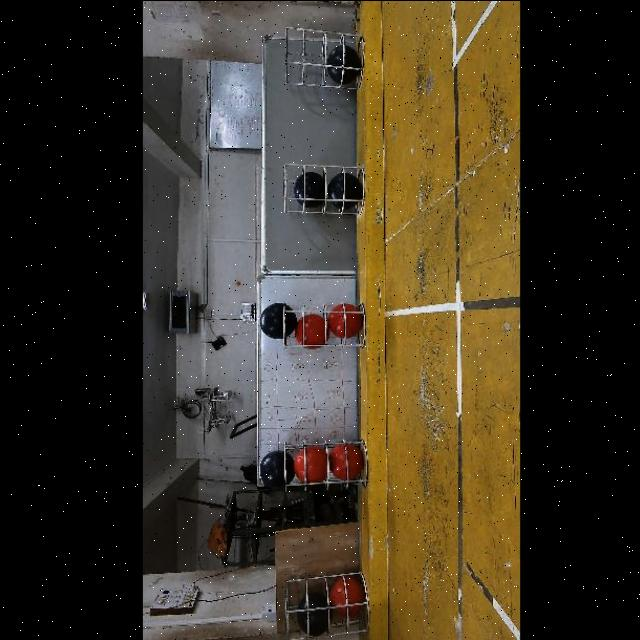P: (296, 592, 333, 636), (260, 302, 298, 339), (327, 44, 362, 84), (260, 449, 295, 487), (328, 172, 363, 209), (294, 171, 325, 207)
R: (329, 575, 366, 618), (294, 446, 328, 486), (294, 312, 329, 349), (328, 303, 363, 337), (329, 444, 363, 479)
S: (286, 562, 368, 640), (284, 25, 366, 91), (284, 436, 368, 492), (284, 162, 366, 214), (281, 301, 369, 347)
